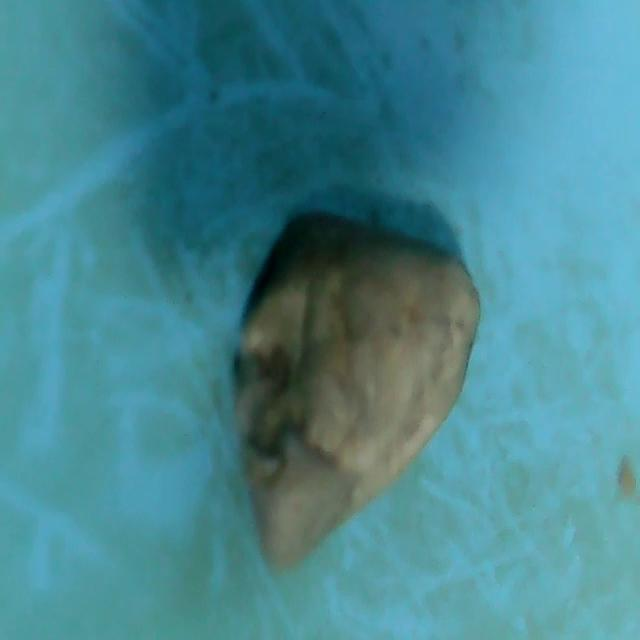rock: (222, 200, 489, 582)
